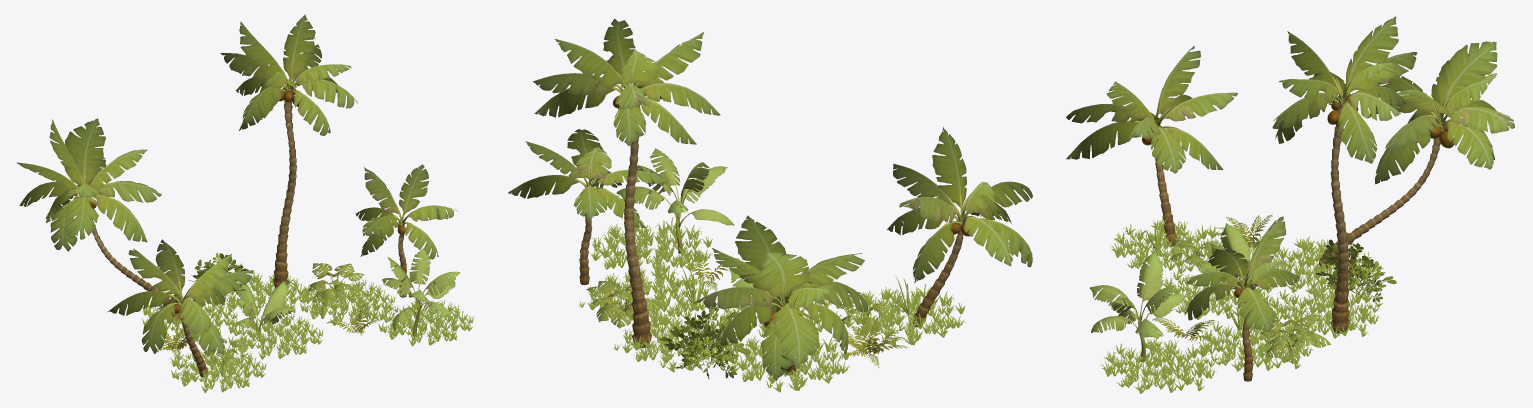
File: stylized tropical pack.fbx
3 views of the same model, side by side, from view 1: azimuth 30°, elevation 25°; view 2: azimuth 150°, elevation 25°; view 3: azimuth 270°, elevation 25° (orthographic). The views are drawn at different scales.
Parts seen in each view (by area): view 1: Tree_2, Tree_1, Tree_0; view 2: Tree_2, Tree_1, Tree_0; view 3: Tree_2, Tree_1, Tree_0.
Boxes of the visible parts, bbox=[...] form: Tree_2: bbox=[16, 14, 474, 392]; Tree_1: bbox=[146, 248, 460, 365]; Tree_0: bbox=[69, 64, 431, 377]; Tree_2: bbox=[508, 18, 1032, 392]; Tree_1: bbox=[586, 148, 907, 368]; Tree_0: bbox=[566, 66, 990, 375]; Tree_2: bbox=[1066, 16, 1514, 393]; Tree_1: bbox=[1089, 213, 1330, 363]; Tree_0: bbox=[1116, 72, 1462, 381].
Size of the model in its own units: 1292 by 868 by 1144.
